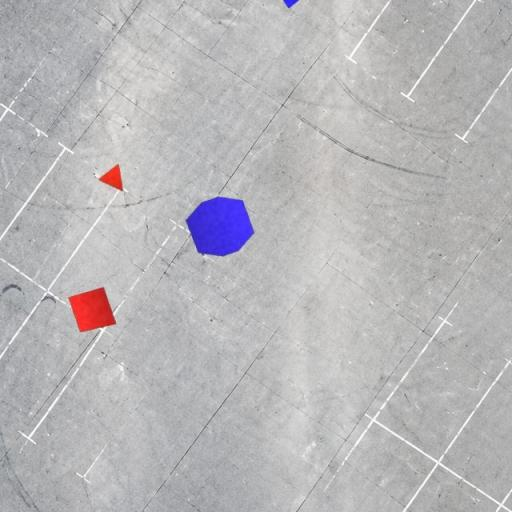RED_SQUARE: (68, 286, 117, 333)
